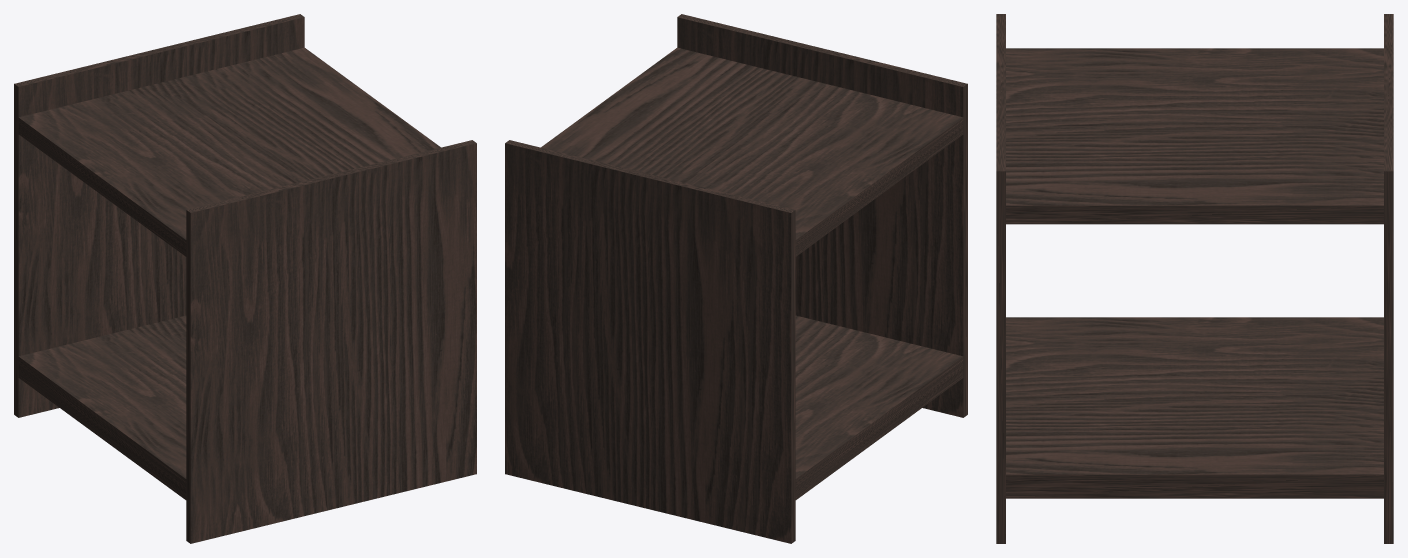
The model's file is wood_stand_small.glb.
3 views of the same model, side by side, from view 1: azimuth 30°, elevation 25°; view 2: azimuth 150°, elevation 25°; view 3: azimuth 270°, elevation 25° (orthographic). The views are drawn at different scales.
Visible parts, largest first — view 1: Cube.056; view 2: Cube.056; view 3: Cube.056.
Part boxes in pixels (x1,y1,x2,y2): Cube.056: (14,14,476,543); Cube.056: (505,14,967,543); Cube.056: (996,14,1393,543).
Bounding box in the file's own units: 0.5903 × 0.6522 × 0.6307.
1 material, 1 textured.
